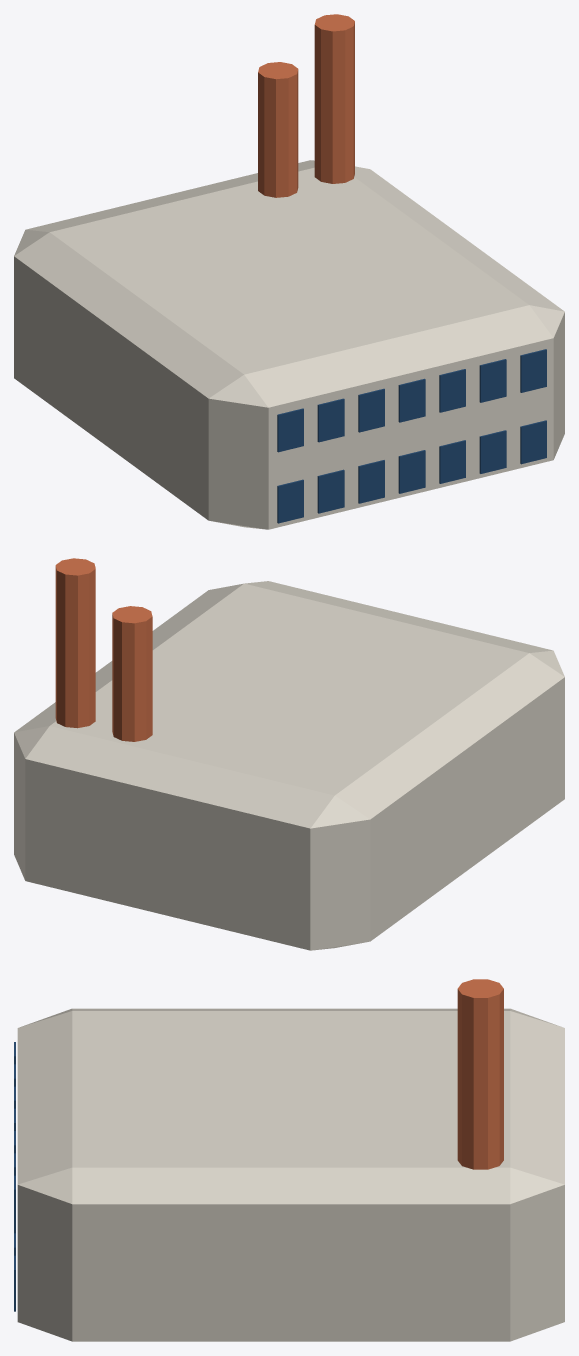
File: factory.glb
3 renders of one model, top to bottom at view 1: azimuth 30°, elevation 25°; view 2: azimuth 150°, elevation 25°; view 3: azimuth 270°, elevation 25°, orthographic. The views are drawn at different scales.
Parts seen in each view (by area): view 1: walls, stack, stack2, win.008, win.010, win.001, win.005, win.003, win.012, win.007, win.009, win (+5 smaller); view 2: walls, stack, stack2; view 3: walls, stack.
Boxes of the visible parts, x1=… form: walls: x1=14, y1=160, x2=564, y2=529; stack: x1=314, y1=14, x2=354, y2=183; stack2: x1=258, y1=62, x2=298, y2=197; win.008: x1=317, y1=398, x2=344, y2=442; win.010: x1=398, y1=378, x2=425, y2=422; win.001: x1=317, y1=469, x2=344, y2=513; win.005: x1=479, y1=430, x2=506, y2=473; win.003: x1=398, y1=450, x2=425, y2=493; win.012: x1=479, y1=359, x2=506, y2=402; win.007: x1=277, y1=408, x2=303, y2=452; win.009: x1=358, y1=388, x2=384, y2=432; win: x1=277, y1=479, x2=303, y2=523; walls: x1=14, y1=581, x2=564, y2=950; stack: x1=55, y1=558, x2=95, y2=728; stack2: x1=112, y1=606, x2=152, y2=741; walls: x1=17, y1=1008, x2=564, y2=1341; stack: x1=457, y1=979, x2=503, y2=1169.
Bounding box in the file's own units: 22 × 18 × 26.17.
